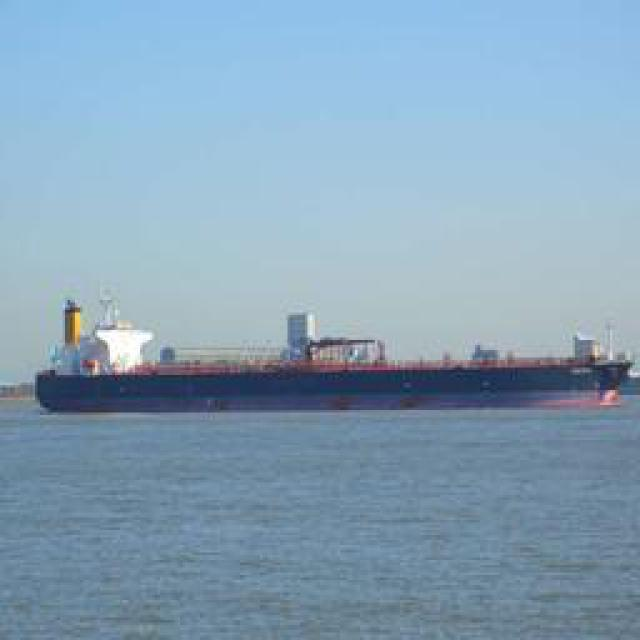Ship: (32, 298, 622, 413)
